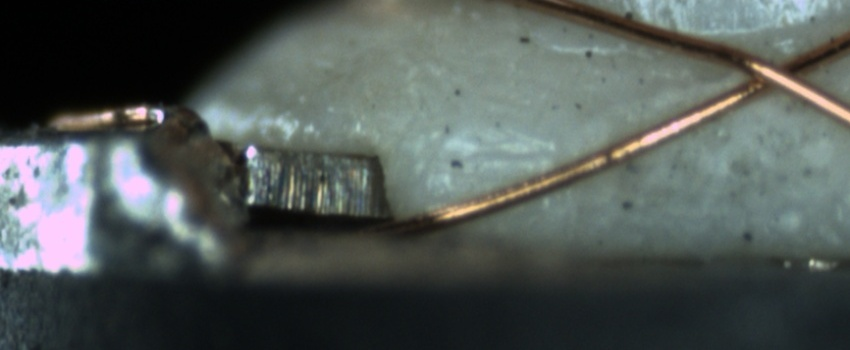CL: (719, 39, 830, 107)
DL: (436, 122, 556, 185)
TE: (49, 100, 195, 141)
